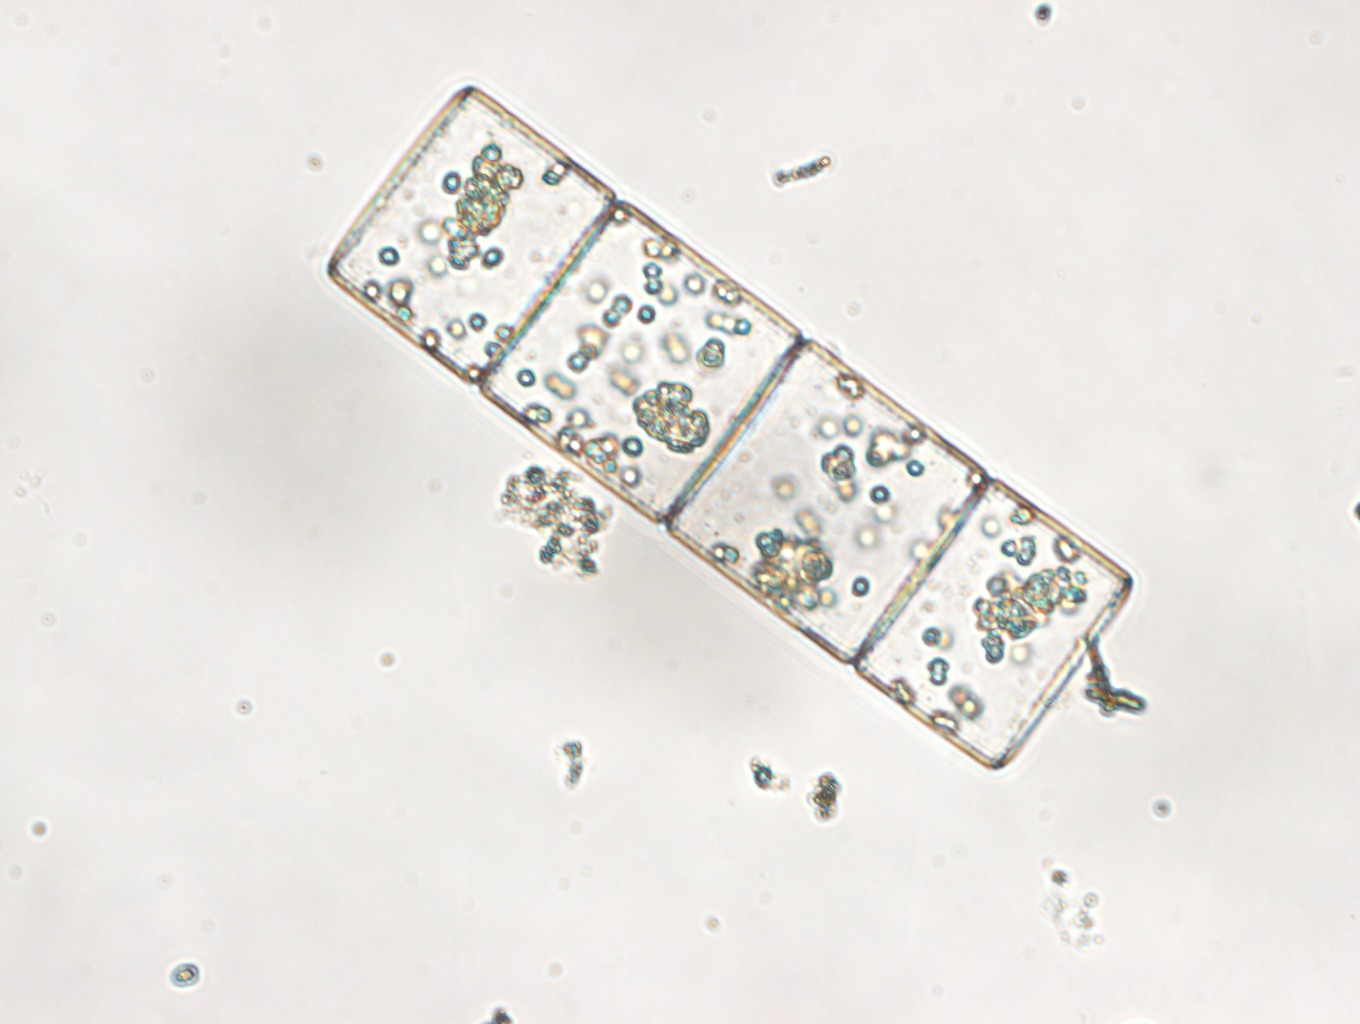guinardia flaccida: (323, 85, 1135, 769)
